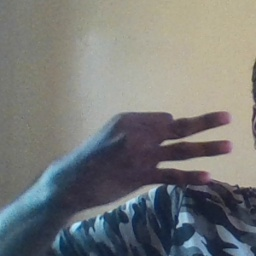K: (69, 112, 234, 190)
